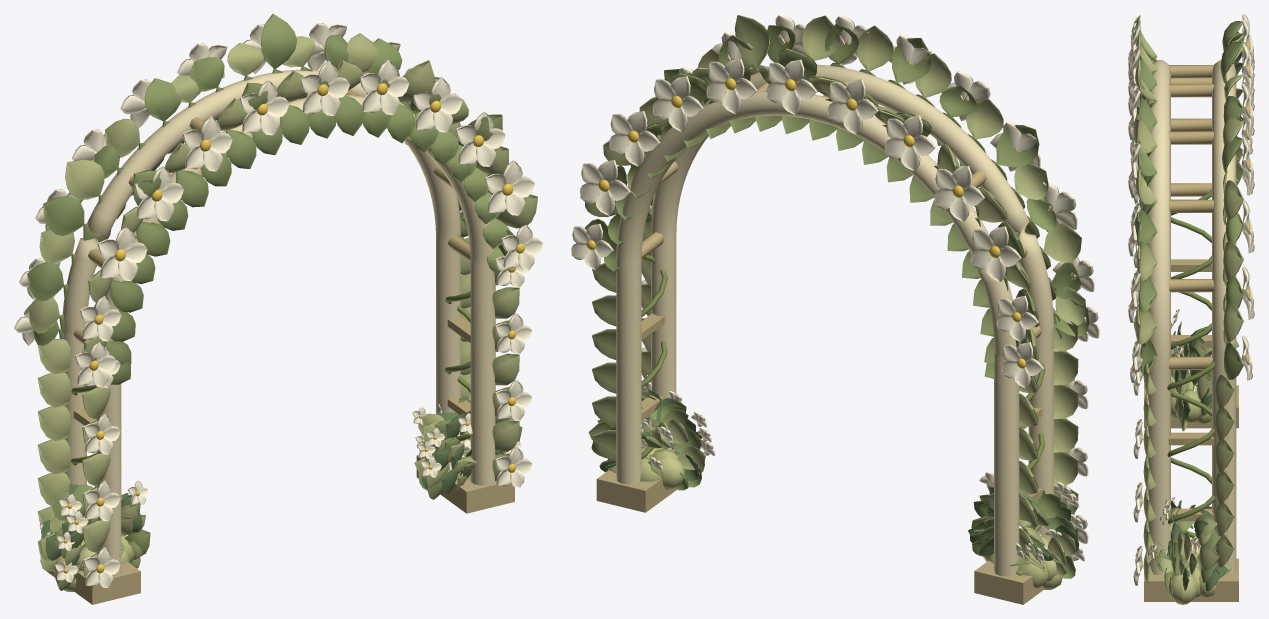
Rendered from garden3d_flower_arch.glb.
3 renders of one model, left to right at view 1: azimuth 30°, elevation 25°; view 2: azimuth 150°, elevation 25°; view 3: azimuth 270°, elevation 25°, orthographic. The views are drawn at different scales.
Parts seen in each view (by area): view 1: Arch / front and rear timber ribs, Arch / three-dimensional ivy (×2), Arch / flowers front and rear / sculpted petals, Arch / crossing ivy, Arch / column leaves, Shrub / individual folded leaves (×6), Arch / column daisies / sculpted petals, Arch / raised stone feet, Shrub / daisies / sculpted petals (×2), Arch / flowers front and rear / pollen dome, Arch / depth ties, Arch / column cross braces (+1 smaller); view 2: Arch / front and rear timber ribs, Arch / flowers front and rear / sculpted petals, Arch / three-dimensional ivy (×2), Arch / column leaves, Shrub / individual folded leaves (×6), Arch / crossing ivy, Arch / raised stone feet, Shrub / daisies / sculpted petals (×2), Arch / flowers front and rear / pollen dome, Arch / winding vine stems, Arch / column daisies / sculpted petals, Arch / depth ties (+2 smaller); view 3: Arch / front and rear timber ribs, Arch / three-dimensional ivy (×2), Shrub / individual folded leaves (×6), Arch / flowers front and rear / sculpted petals, Arch / depth ties, Arch / column leaves, Arch / winding vine stems, Arch / raised stone feet, Shrub / moss volumes (×3), Arch / column cross braces, Arch / column daisies / sculpted petals, Arch / crossing ivy (+1 smaller).
Part boxes in pixels (x1,y1,x2,y2): Arch / front and rear timber ribs: (62, 69, 495, 576); Arch / three-dimensional ivy (×2): (27, 14, 537, 369); Arch / flowers front and rear / sculpted petals: (14, 23, 542, 387); Arch / crossing ivy: (59, 66, 509, 384); Arch / column leaves: (38, 238, 519, 577); Shrub / individual folded leaves (×6): (38, 394, 522, 590); Arch / column daisies / sculpted petals: (83, 256, 531, 587); Arch / raised stone feet: (42, 455, 514, 604); Shrub / daisies / sculpted petals (×2): (39, 404, 520, 582); Arch / flowers front and rear / pollen dome: (89, 46, 524, 370); Arch / depth ties: (73, 89, 470, 344); Arch / column cross braces: (73, 316, 470, 425); Arch / front and rear timber ribs: (616, 64, 1053, 576); Arch / flowers front and rear / sculpted petals: (571, 14, 1099, 388); Arch / three-dimensional ivy (×2): (584, 15, 1089, 376); Arch / column leaves: (592, 219, 1078, 561); Shrub / individual folded leaves (×6): (588, 390, 1079, 578); Arch / crossing ivy: (604, 62, 1061, 379); Arch / raised stone feet: (596, 470, 1073, 604); Shrub / daisies / sculpted petals (×2): (640, 375, 1084, 564); Arch / flowers front and rear / pollen dome: (586, 40, 1073, 368); Arch / winding vine stems: (641, 255, 1045, 532); Arch / column daisies / sculpted petals: (641, 205, 1088, 543); Arch / depth ties: (641, 80, 1042, 345); Arch / front and rear timber ribs: (1146, 60, 1236, 574); Arch / three-dimensional ivy (×2): (1133, 15, 1243, 379); Shrub / individual folded leaves (×6): (1154, 321, 1232, 600); Arch / flowers front and rear / sculpted petals: (1128, 14, 1254, 383); Arch / depth ties: (1168, 65, 1214, 369); Arch / column leaves: (1143, 363, 1234, 583); Arch / winding vine stems: (1167, 189, 1215, 538); Arch / raised stone feet: (1144, 385, 1238, 601); Shrub / moss volumes (×3): (1168, 381, 1216, 604); Arch / column cross braces: (1168, 259, 1214, 521); Arch / column daisies / sculpted petals: (1133, 188, 1143, 585); Arch / crossing ivy: (1139, 57, 1239, 375).
Bounding box in the file's own units: 6.88 × 6.91 × 1.67.
